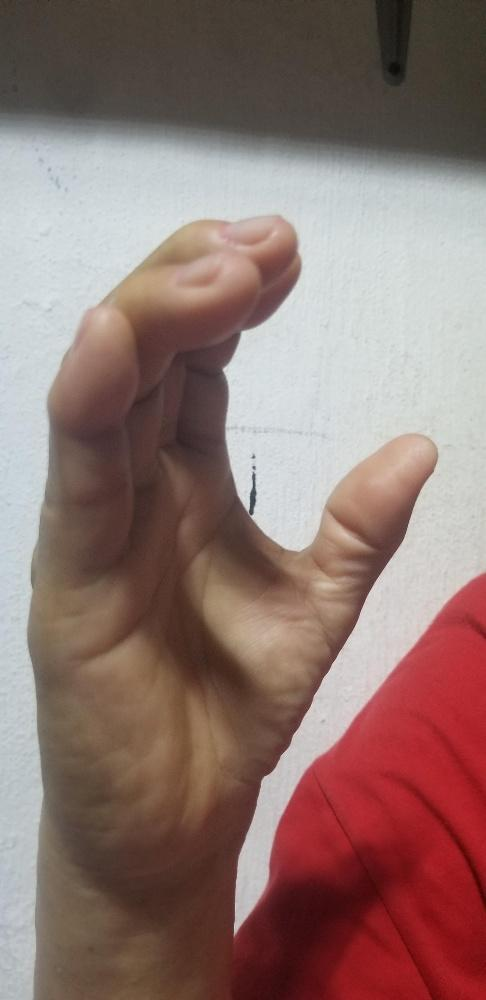c: (24, 206, 439, 871)
